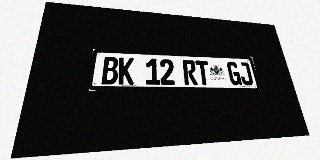1: (145, 58, 160, 85)
2: (160, 59, 175, 85)
B: (101, 57, 119, 85)
G: (226, 62, 242, 85)
J: (238, 62, 254, 85)
K: (118, 57, 134, 85)
R: (182, 60, 198, 85)
T: (195, 60, 211, 85)
